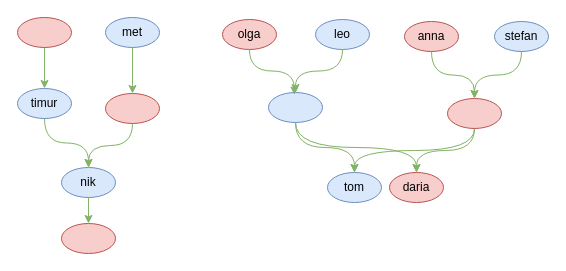
This 566x271 diagram has some shape labels left out. The centre of each missing label's shape, as x and y in pixels:
"elena" goes at point 132,108.
"inna" goes at point 474,113.
"ivan" goes at point 295,107.
"lisa" goes at point 44,32.
"mia" goes at point 88,238.
